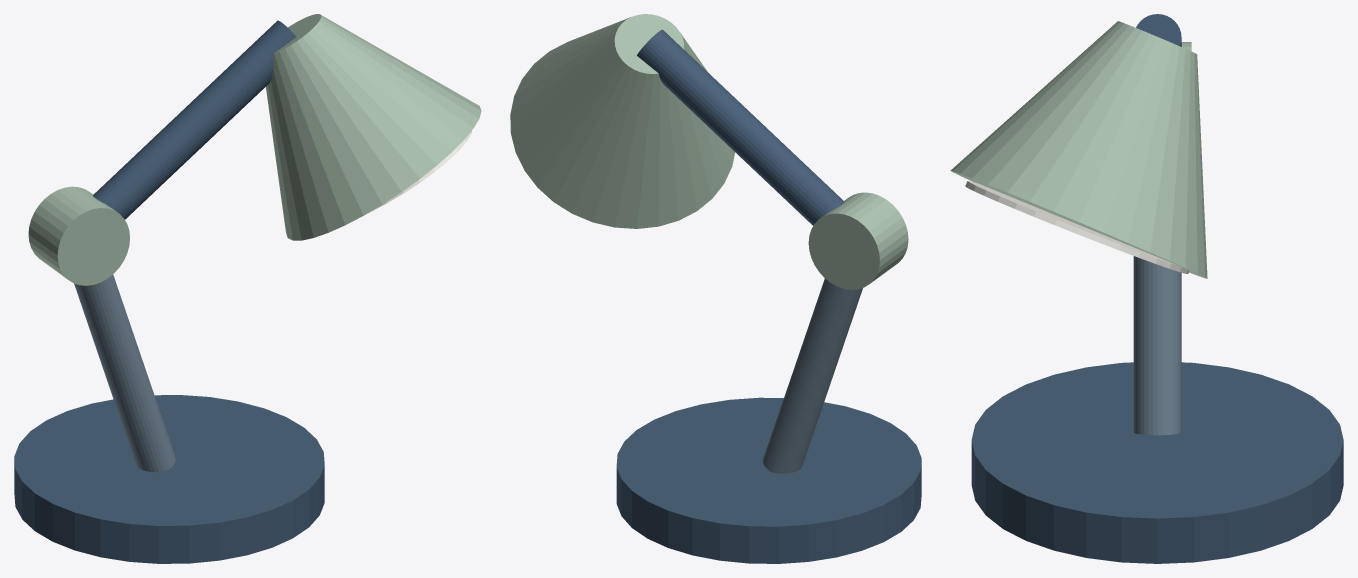
Rendered from lamp.glb.
3 renders of one model, left to right at view 1: azimuth 30°, elevation 25°; view 2: azimuth 150°, elevation 25°; view 3: azimuth 270°, elevation 25°, orthographic. The views are drawn at different scales.
Parts seen in each view (by area): view 1: base, shade, upper arm, lower arm, joint; view 2: base, shade, upper arm, lower arm, joint; view 3: base, shade, lower arm, diffuser, upper arm.
Part boxes in pixels (x1,y1,x2,y2): base: (14,395,324,563); shade: (266,14,481,240); upper arm: (93,20,296,219); lower arm: (74,274,175,472); joint: (28,186,129,285); base: (616,397,921,563); shade: (510,14,735,228); upper arm: (637,29,844,225); lower arm: (763,278,862,473); joint: (808,192,908,289); base: (971,362,1343,563); shade: (950,21,1207,278); lower arm: (1133,256,1181,435); diffuser: (965,181,1189,273); upper arm: (1136,14,1181,46).
Bounding box in the file's own units: 1.58 × 1.67 × 1.1.
